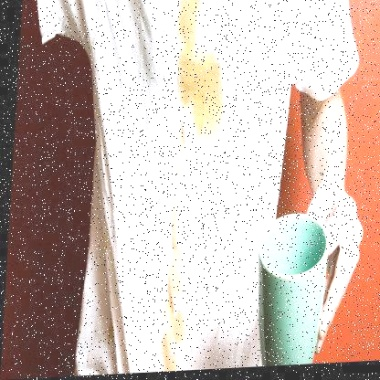coffee: (176, 47, 226, 142), (159, 301, 191, 367), (168, 188, 184, 295), (178, 0, 199, 41)
